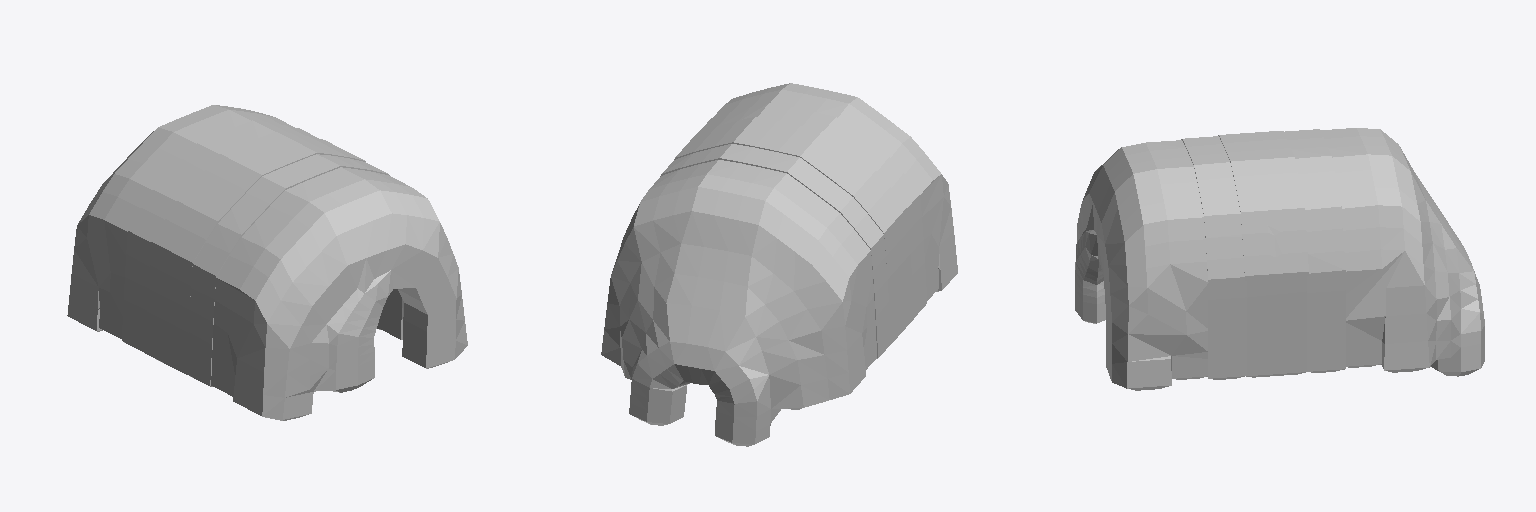
File: dickemap.obj
The picture shows the model from 3 angles: view 1: azimuth 30°, elevation 25°; view 2: azimuth 150°, elevation 25°; view 3: azimuth 270°, elevation 25°; orthographic projection.
Parts seen in each view (by area): view 1: Mesh_0.003; view 2: Mesh_0.003; view 3: Mesh_0.003.
Boxes of the visible parts, x1,y1,x2,y2 form: Mesh_0.003: [67, 105, 467, 420]; Mesh_0.003: [601, 83, 957, 446]; Mesh_0.003: [1075, 128, 1484, 390].
Bounding box in the file's own units: 88.72 × 70.39 × 116.